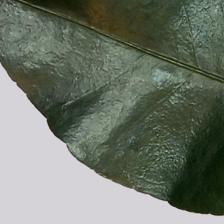healthy: (1, 2, 224, 164)
